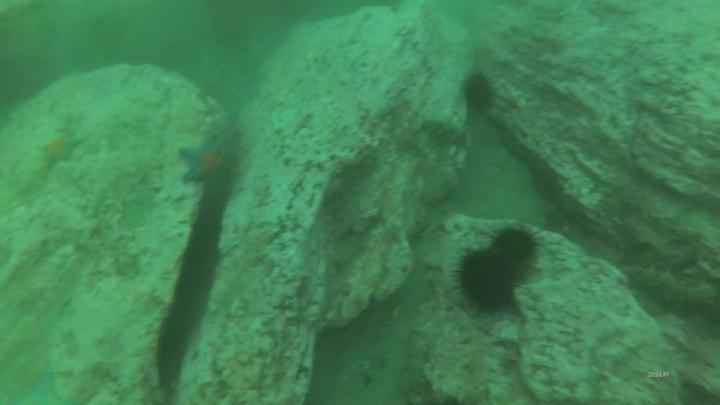echinus: (459, 252, 517, 313), (495, 226, 537, 265), (467, 76, 494, 115)
holothurian: (626, 264, 716, 313)
starfish: (179, 143, 228, 184), (40, 138, 84, 166)
